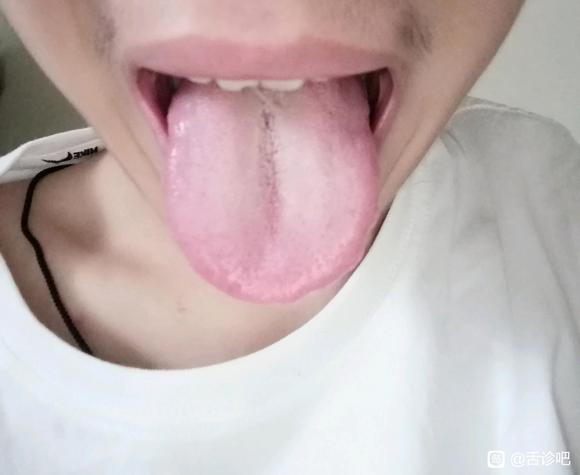liewenshe: (253, 91, 284, 239)
pangdashe: (164, 74, 378, 302)
